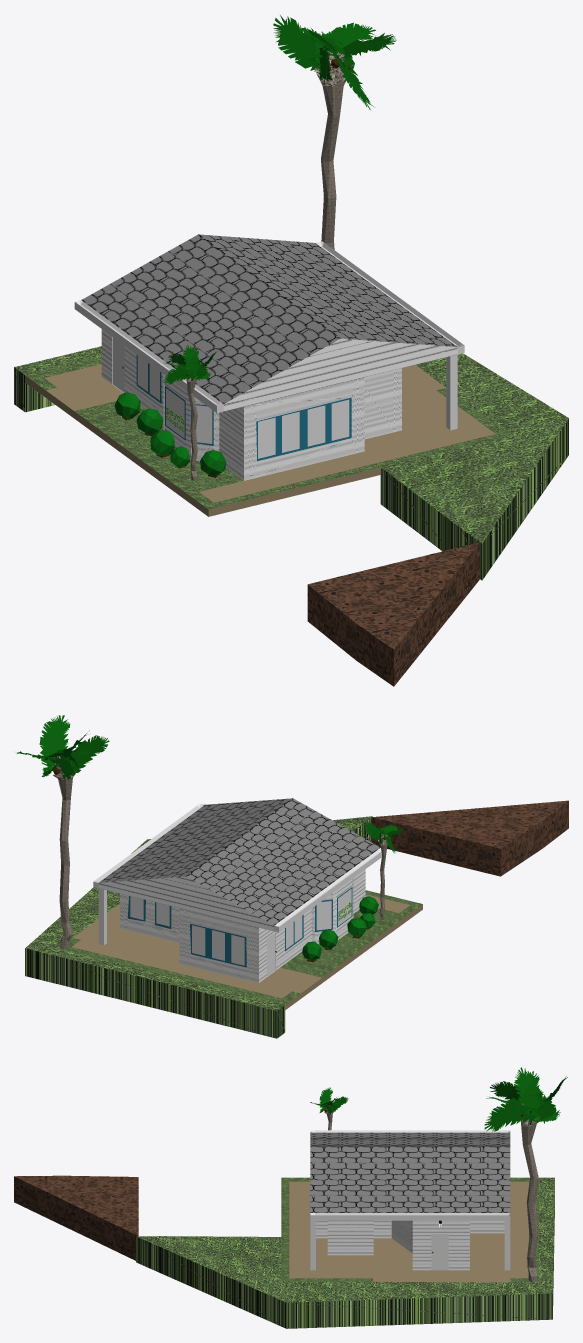
The model's file is Psychologist.glb.
3 views of the same model, one above another, from view 1: azimuth 30°, elevation 25°; view 2: azimuth 150°, elevation 25°; view 3: azimuth 270°, elevation 25° (orthographic). The views are drawn at different scales.
Parts seen in each view (by area): view 1: Roof, Undeveloped Land.001, Ground, Walls, Trees, Shrubs, Cube.005; view 2: Roof, Undeveloped Land.001, Walls, Ground, Trees, Shrubs, Cube.006; view 3: Undeveloped Land.001, Roof, Ground, Walls, Trees, Door, Cube.006.
Part boxes in pixels (x1,y1,x2,y2): Roof: (74,234,464,412); Undeveloped Land.001: (14,346,568,686); Ground: (25,357,509,516); Walls: (101,329,401,480); Trees: (163,15,396,480); Shrubs: (114,392,226,477); Cube.005: (446,354,457,430); Roof: (93,798,381,932); Undeveloped Land.001: (25,800,568,1038); Walls: (120,869,365,982); Ground: (57,890,422,1009); Trees: (17,715,403,949); Shrubs: (302,896,378,962); Cube.006: (98,888,106,945); Undeveloped Land.001: (14,1175,554,1328); Roof: (310,1130,510,1220); Ground: (281,1177,539,1282); Walls: (316,1220,504,1270); Trees: (310,1067,567,1282); Door: (431,1234,448,1270); Cube.006: (504,1220,510,1270).
Size of the model in its own units: 16.04 by 13.45 by 29.36.
26 materials, 7 textured.
